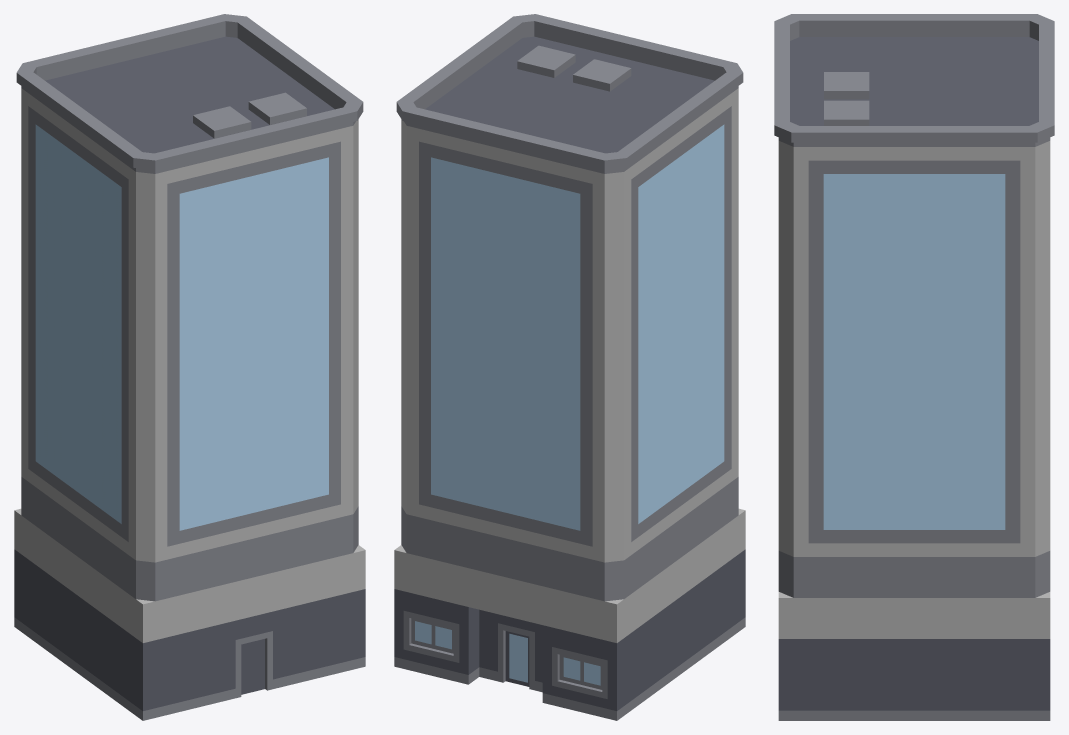
Rendered from skyscraperA.dae.
The picture shows the model from 3 angles, left to right: view 1: azimuth 30°, elevation 25°; view 2: azimuth 150°, elevation 25°; view 3: azimuth 270°, elevation 25°; orthographic projection. The views are drawn at different scales.
Visible parts, largest first — view 1: skyscraperA; view 2: skyscraperA; view 3: skyscraperA.
Boxes of the visible parts, x1,y1,x2,y2 form: skyscraperA: (14,14,365,720); skyscraperA: (394,14,745,720); skyscraperA: (774,14,1054,720).
Bounding box in the file's own units: 1.24 × 2.88 × 1.24.
